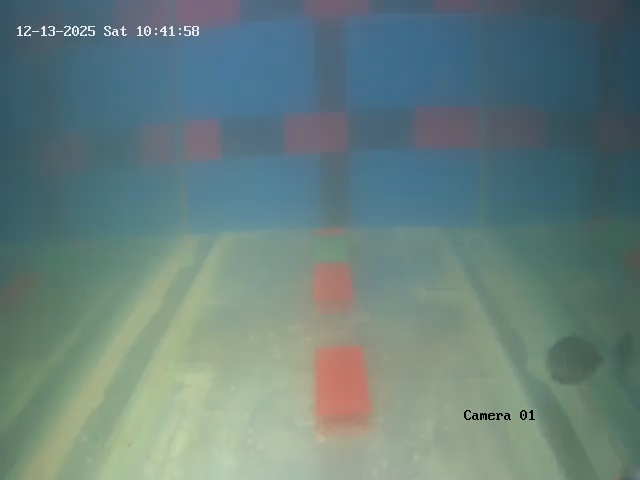fish: (548, 331, 600, 389)
